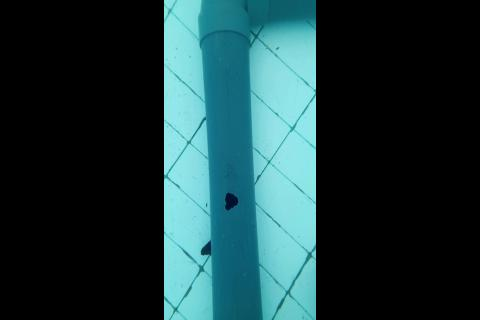kebocoran: (223, 190, 239, 212)
